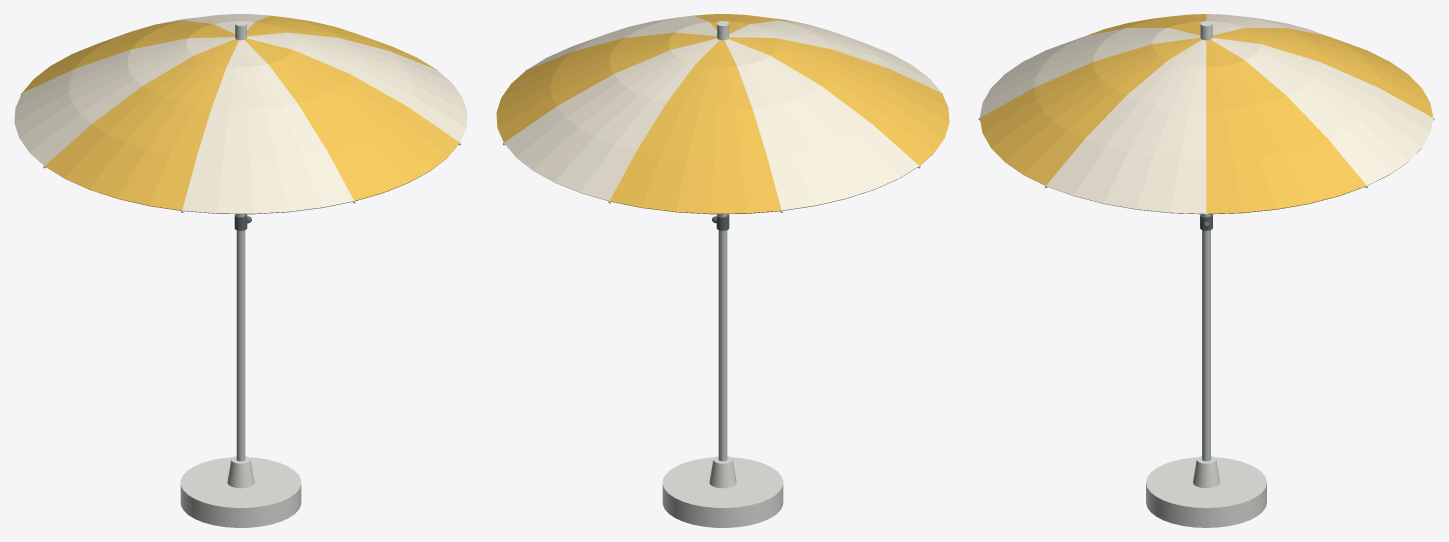
The model's file is umbrella_beach.glb.
3 renders of one model, left to right at view 1: azimuth 30°, elevation 25°; view 2: azimuth 150°, elevation 25°; view 3: azimuth 270°, elevation 25°, orthographic.
Parts seen in each view (by area): view 1: BeachUmbrella_Canopy, BeachUmbrella_Weighted_Base, BeachUmbrella_Pole, BeachUmbrella_Base_Socket; view 2: BeachUmbrella_Canopy, BeachUmbrella_Weighted_Base, BeachUmbrella_Pole, BeachUmbrella_Base_Socket; view 3: BeachUmbrella_Canopy, BeachUmbrella_Weighted_Base, BeachUmbrella_Pole, BeachUmbrella_Base_Socket.
Boxes of the visible parts, <box> form: BeachUmbrella_Canopy: <box>14,14,467,214</box>; BeachUmbrella_Weighted_Base: <box>180,457,301,527</box>; BeachUmbrella_Pole: <box>236,214,245,461</box>; BeachUmbrella_Base_Socket: <box>227,456,254,488</box>; BeachUmbrella_Canopy: <box>496,14,949,214</box>; BeachUmbrella_Weighted_Base: <box>662,457,783,527</box>; BeachUmbrella_Pole: <box>718,214,727,461</box>; BeachUmbrella_Base_Socket: <box>709,456,736,488</box>; BeachUmbrella_Canopy: <box>980,14,1432,214</box>; BeachUmbrella_Weighted_Base: <box>1146,457,1266,527</box>; BeachUmbrella_Pole: <box>1202,214,1210,461</box>; BeachUmbrella_Base_Socket: <box>1193,456,1219,488</box>.
Bounding box in the file's own units: 1.86 × 2.16 × 1.86.
